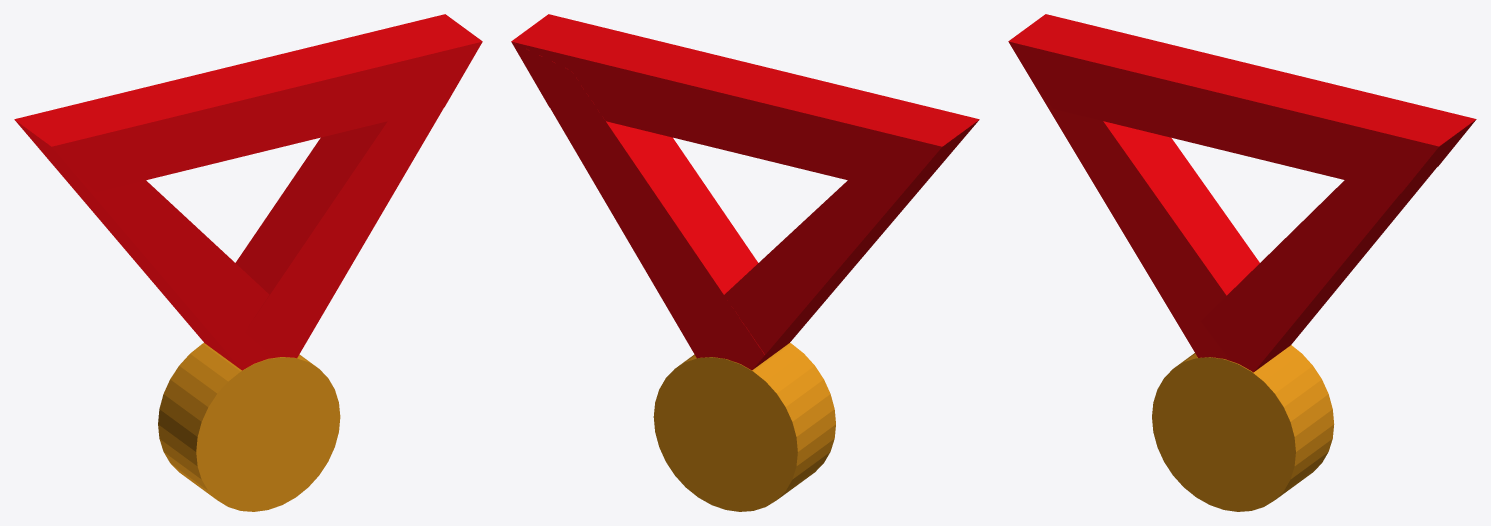
File: Medal.fbx
3 views of the same model, side by side, from view 1: azimuth 30°, elevation 25°; view 2: azimuth 150°, elevation 25°; view 3: azimuth 330°, elevation 25° (orthographic).
Parts seen in each view (by area): view 1: Cube, Cylinder; view 2: Cube, Cylinder; view 3: Cube, Cylinder.
Part boxes in pixels (bbox=[...]): Cube: bbox=[14, 14, 482, 370]; Cylinder: bbox=[158, 343, 340, 511]; Cube: bbox=[511, 14, 979, 370]; Cylinder: bbox=[653, 343, 835, 511]; Cube: bbox=[1008, 14, 1476, 372]; Cylinder: bbox=[1152, 345, 1334, 511].
Size of the model in its own units: 127 by 117 by 19.44.
